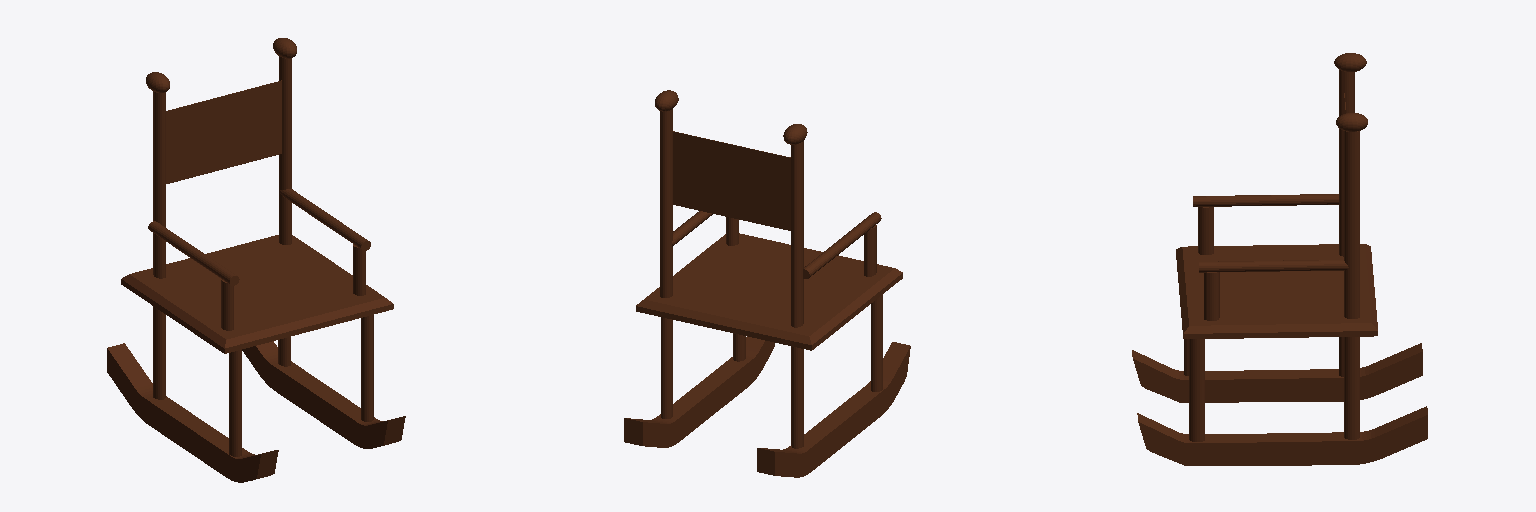
3 renders of one model, left to right at view 1: azimuth 30°, elevation 25°; view 2: azimuth 150°, elevation 25°; view 3: azimuth 270°, elevation 25°, orthographic.
Parts seen in each view (by area): view 1: polySurface134; view 2: polySurface134; view 3: polySurface134.
Boxes of the visible parts, <box> form: polySurface134: <box>107,38,405,482</box>; polySurface134: <box>624,90,910,477</box>; polySurface134: <box>1132,53,1427,465</box>.
Size of the model in its own units: 0.8059 by 1.5 by 1.16.
1 materials, 1 textured.